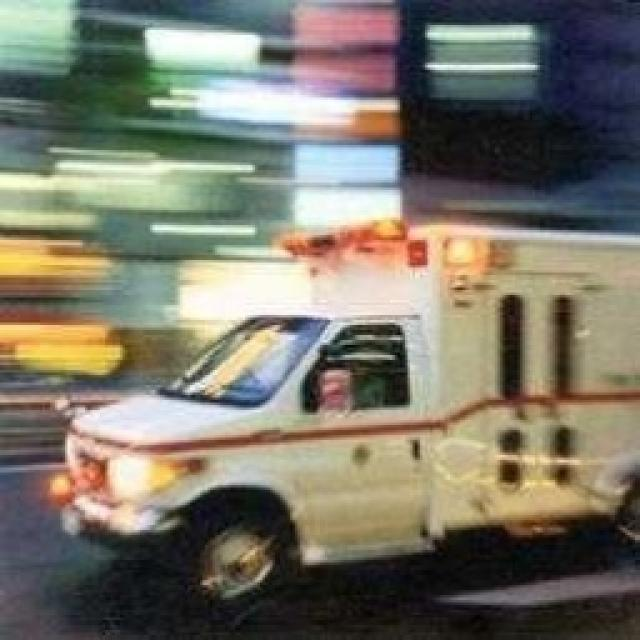emergency-vehicle: (47, 207, 640, 602)
